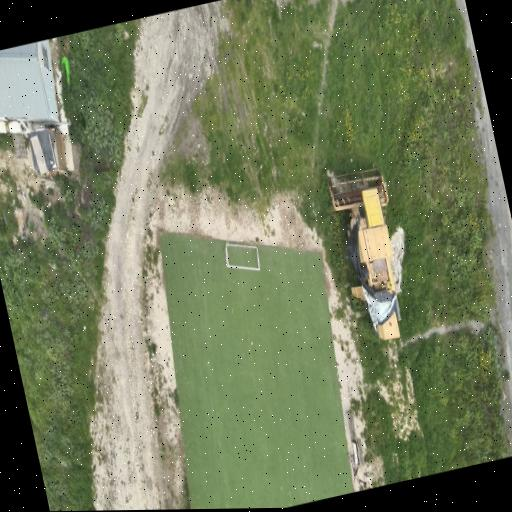harvester: (328, 169, 400, 339)
